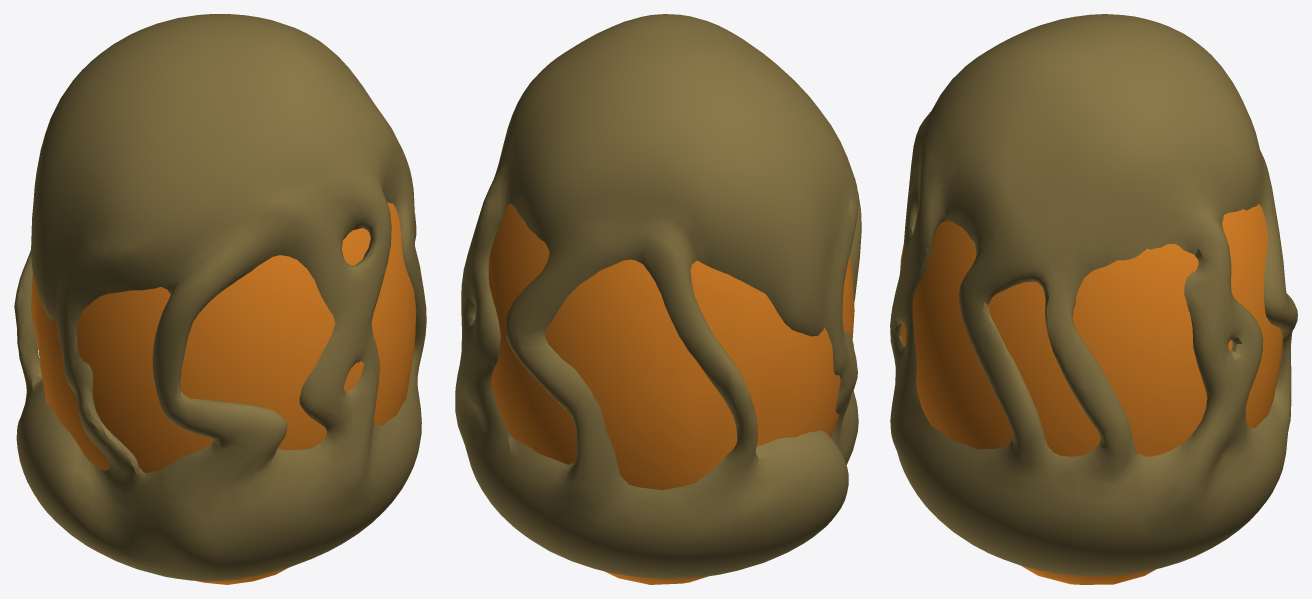
File: Egg.fbx
3 renders of one model, left to right at view 1: azimuth 30°, elevation 25°; view 2: azimuth 150°, elevation 25°; view 3: azimuth 270°, elevation 25°, orthographic.
Parts seen in each view (by area): view 1: Roundcube.002; view 2: Roundcube.002; view 3: Roundcube.002.
Part boxes in pixels (x1,y1,x2,y2): Roundcube.002: [14, 14, 426, 584]; Roundcube.002: [455, 14, 861, 584]; Roundcube.002: [890, 14, 1297, 584].
Bounding box in the file's own units: 1.27 × 1.83 × 1.24.
